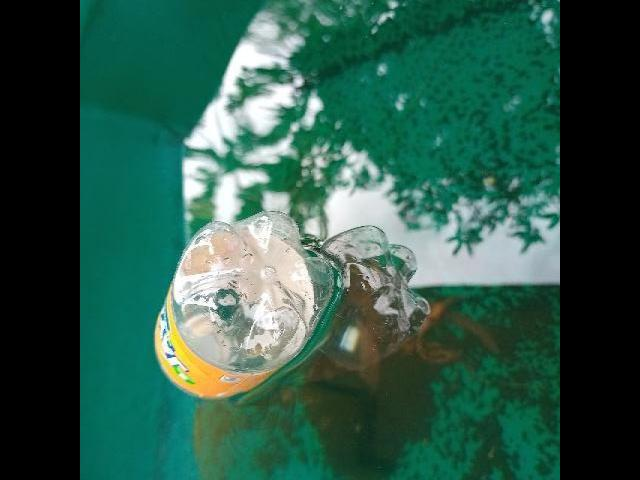Bottle: (144, 200, 342, 409)
